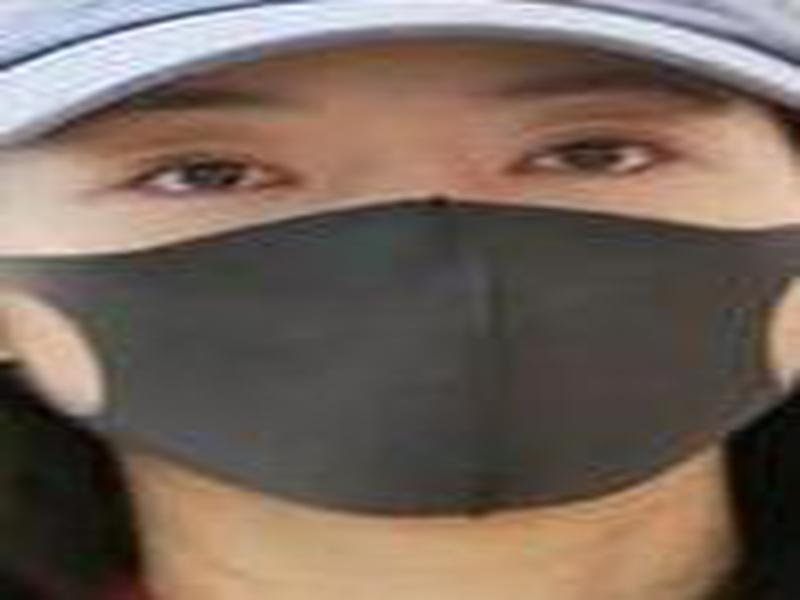with_mask: (1, 43, 797, 533)
